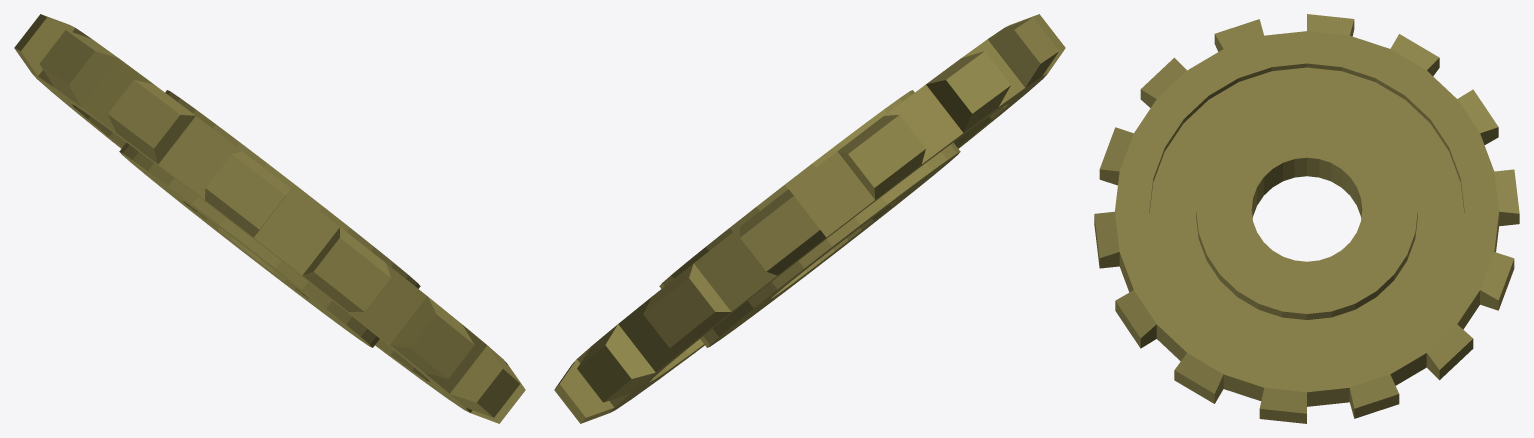
The model's file is gear.glb.
3 renders of one model, left to right at view 1: azimuth 30°, elevation 25°; view 2: azimuth 150°, elevation 25°; view 3: azimuth 270°, elevation 25°, orthographic. The views are drawn at different scales.
Visible parts, largest first — view 1: gear; view 2: gear; view 3: gear.
Boxes of the visible parts, x1,y1,x2,y2 form: gear: [14, 14, 525, 423]; gear: [554, 14, 1065, 423]; gear: [1094, 14, 1519, 423].
Bounding box in the file's own units: 1.68 × 1.68 × 2.21.
